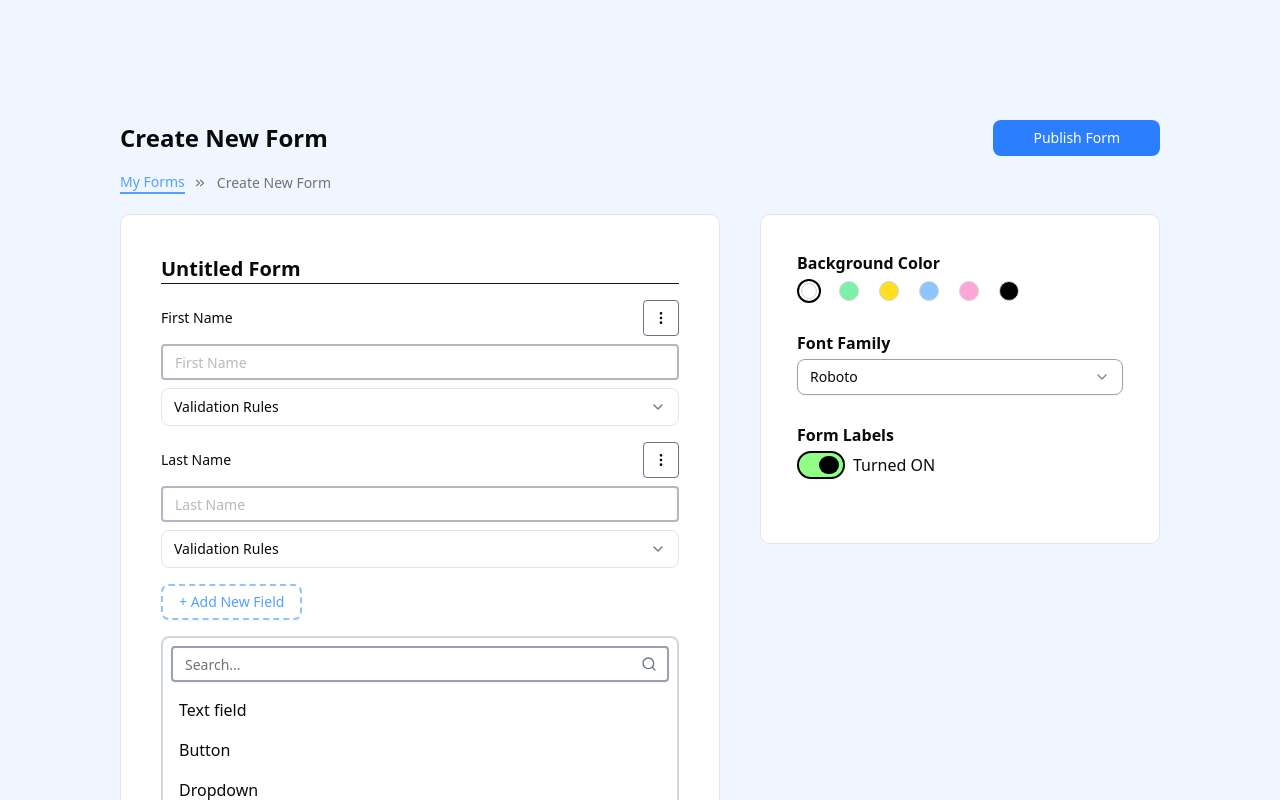
Form Builder › should allow changing form title
The width and height of the screenshot is (1280, 800).
Replace the text in the field with test id "form-title-input" with "My Test Form" at (420, 269), box 161,255 -> 679,283
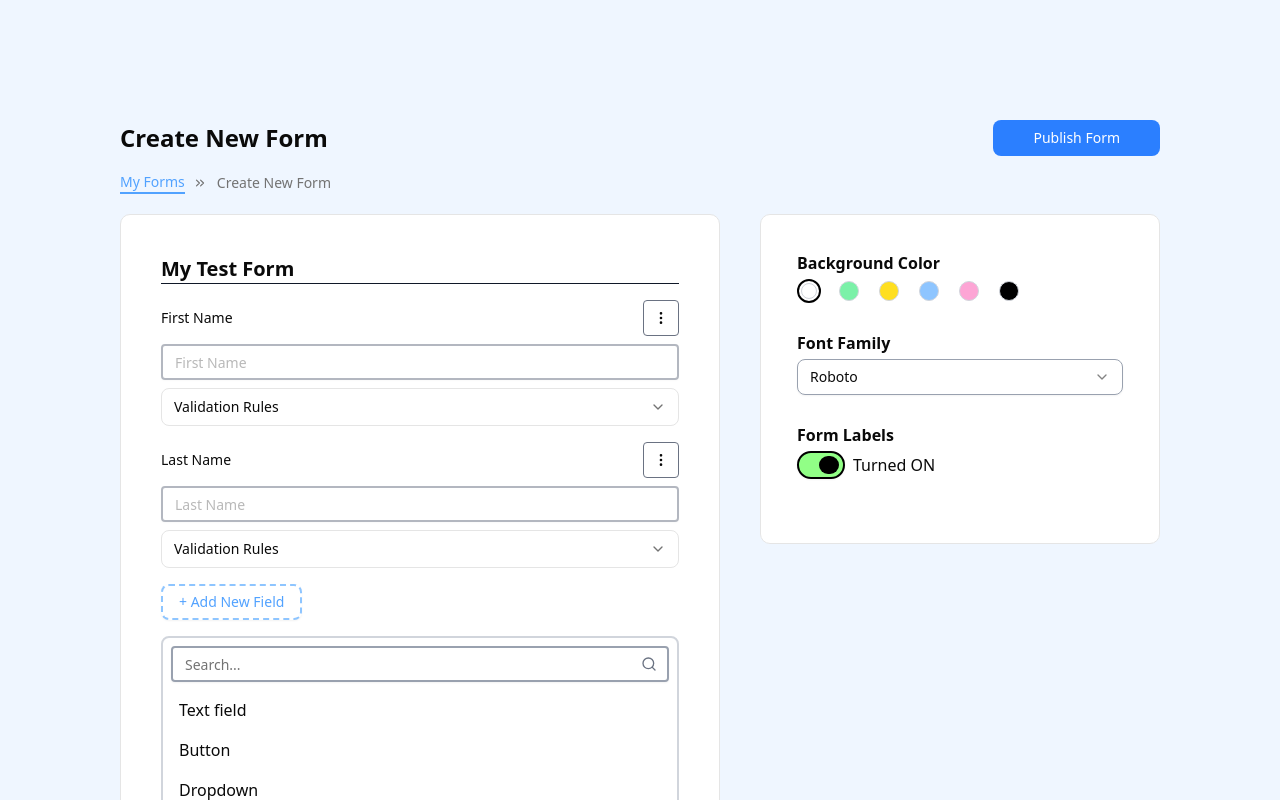
Now the field with test id "form-title-input" holds "My Test Form", box 161,255 -> 679,283
